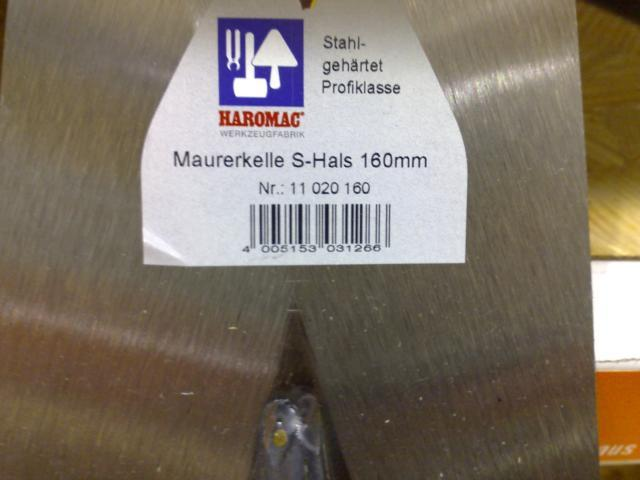Barcode: (232, 195, 404, 258)
